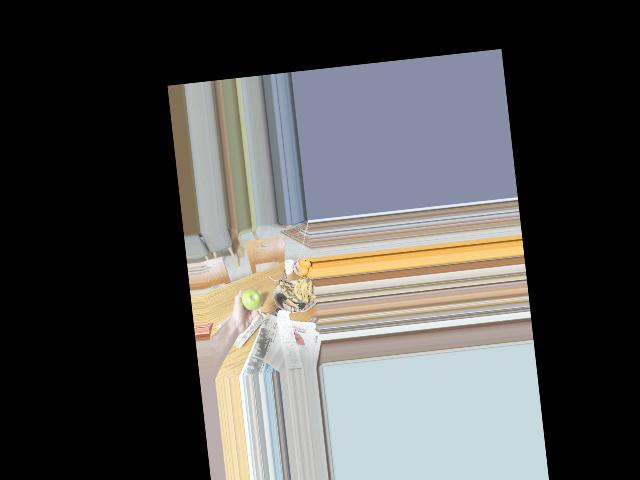apple: (242, 285, 264, 316)
